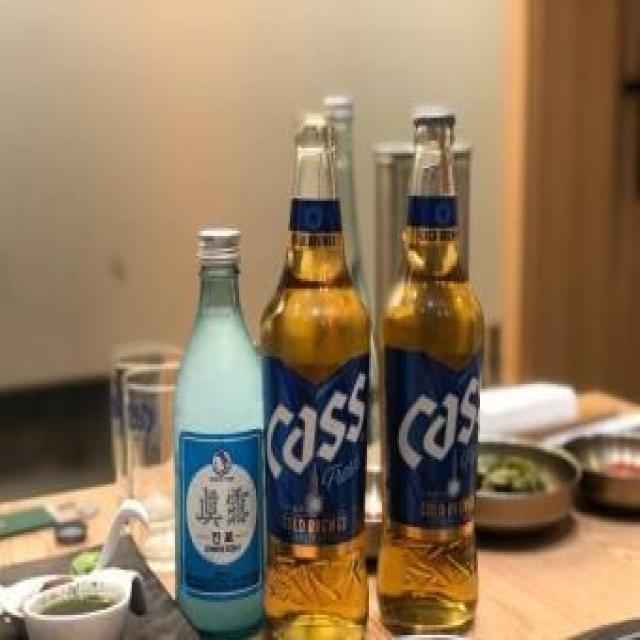beer-bottle: (258, 110, 374, 640), (374, 103, 484, 640)
soju-bottle: (170, 218, 268, 640)
